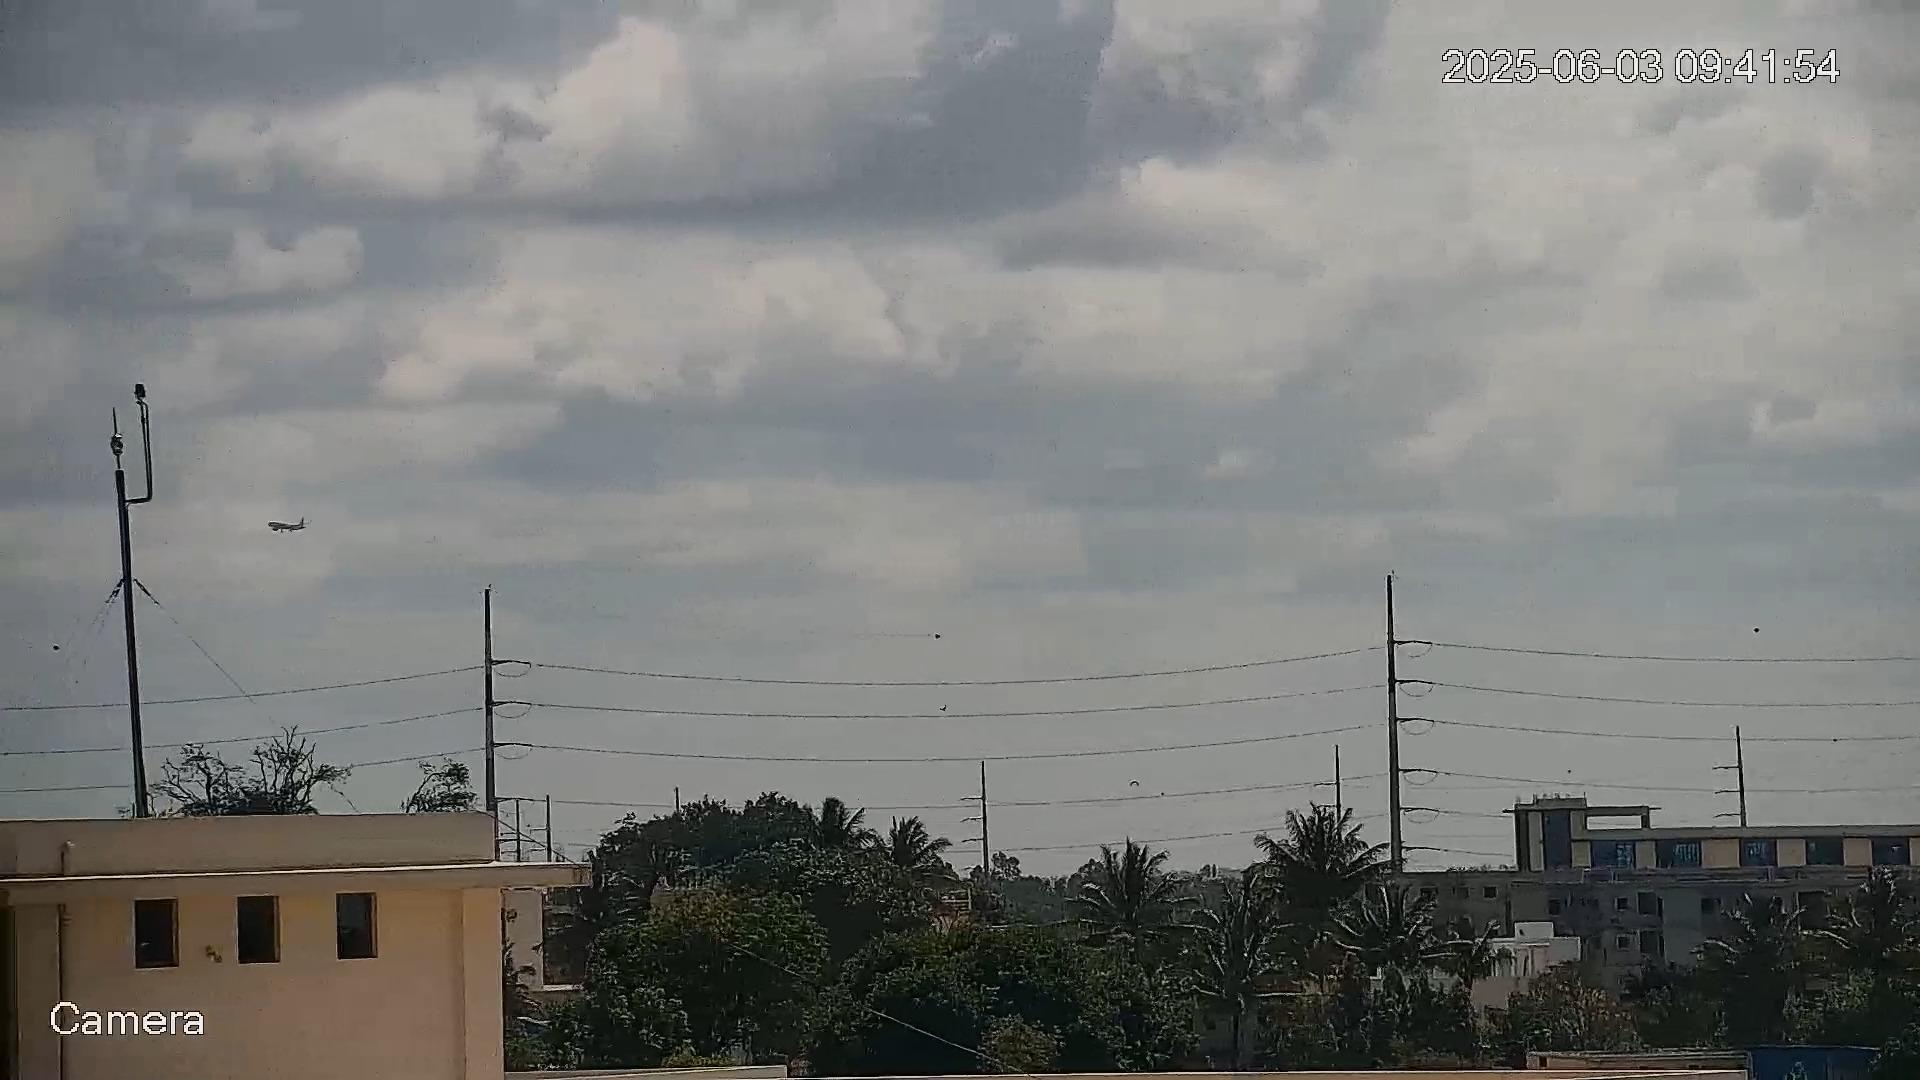Aircraft: (268, 517, 307, 534)
